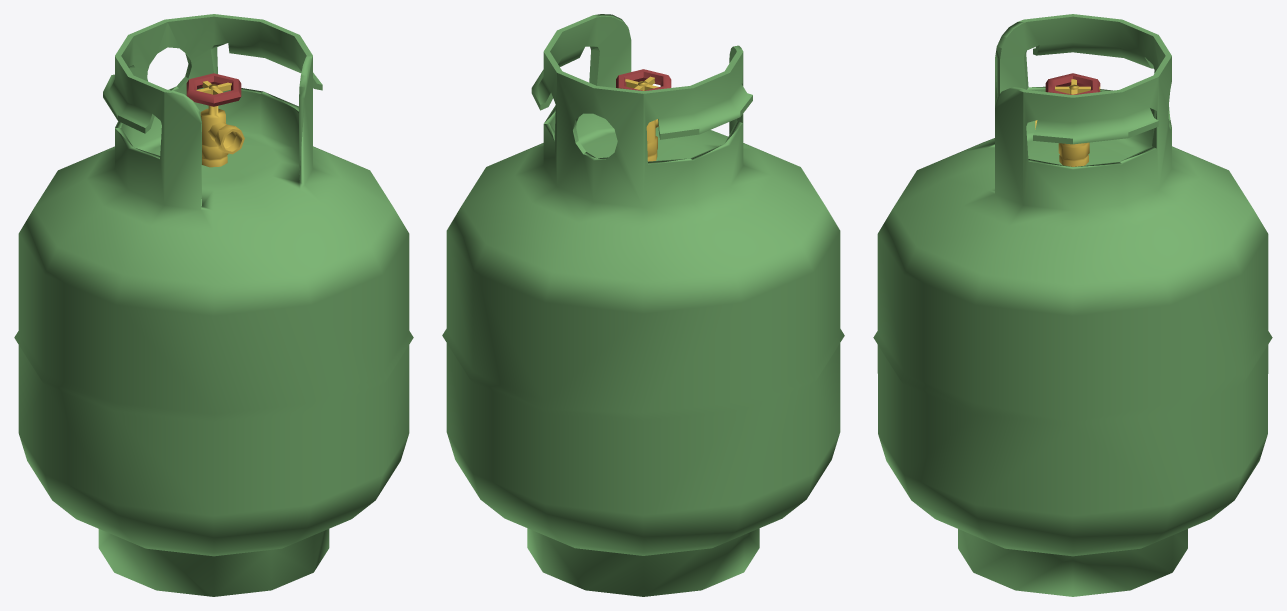
File: propane-tank.glb
3 renders of one model, left to right at view 1: azimuth 30°, elevation 25°; view 2: azimuth 150°, elevation 25°; view 3: azimuth 270°, elevation 25°, orthographic.
Parts seen in each view (by area): view 1: propane-tank; view 2: propane-tank; view 3: propane-tank.
Boxes of the visible parts, x1=… form: propane-tank: x1=14, y1=14, x2=413, y2=596; propane-tank: x1=442, y1=14, x2=844, y2=596; propane-tank: x1=873, y1=14, x2=1272, y2=596.
Size of the model in its own units: 0.7355 by 1 by 0.735.
